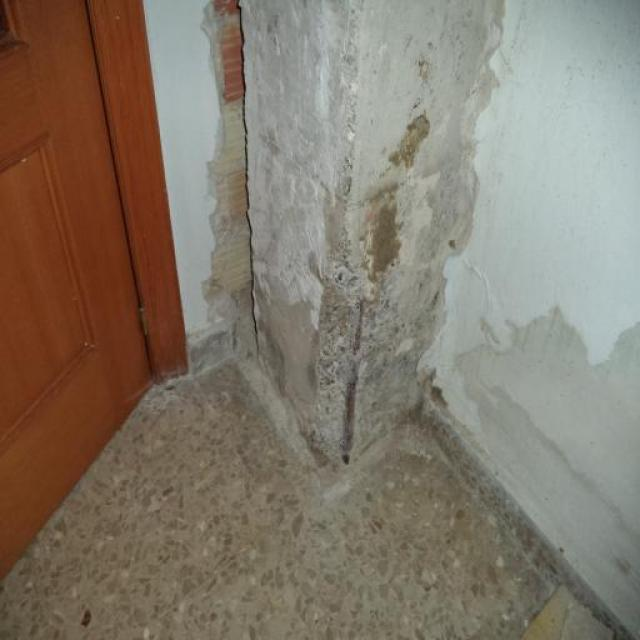D10: (311, 229, 366, 465)
